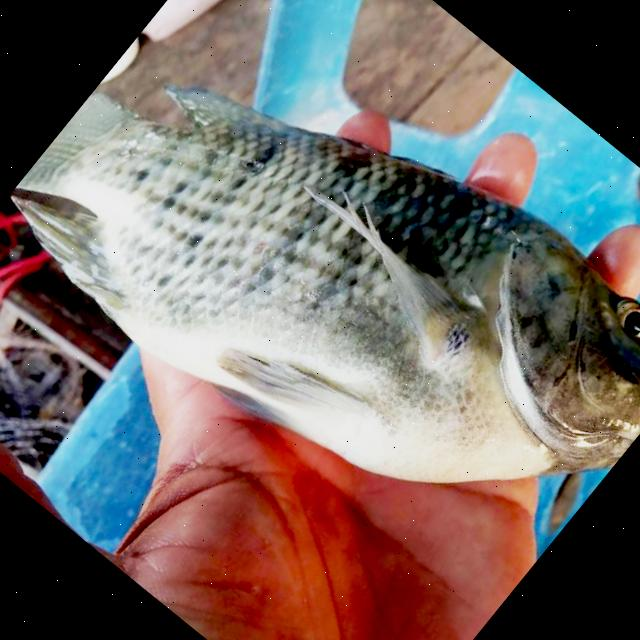Columnaris Disease: (9, 89, 640, 481)
